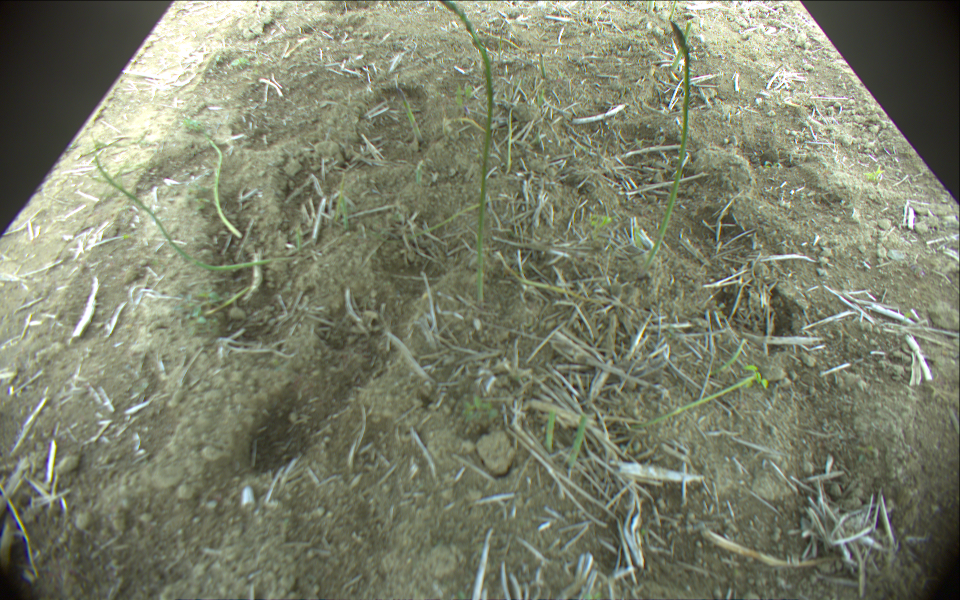aspa: (89, 140, 310, 276), (431, 1, 488, 307), (637, 22, 689, 284), (205, 130, 242, 239), (567, 415, 594, 469), (673, 17, 694, 72), (543, 409, 558, 453), (540, 52, 549, 85), (666, 1, 677, 23), (644, 1, 657, 13)
